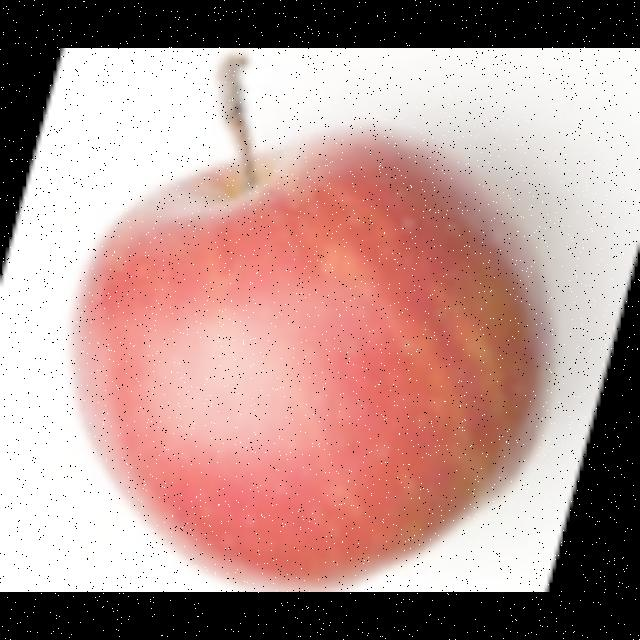Apel Segar: (58, 136, 553, 593)
